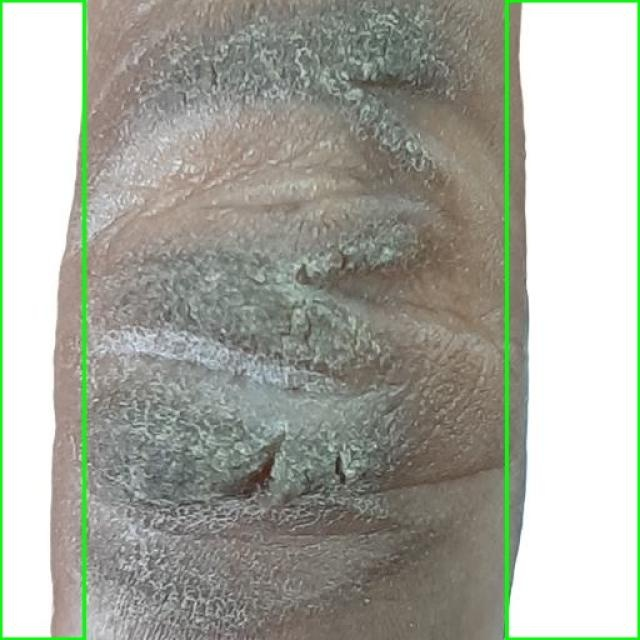Contact Dermatitis: (506, 0, 639, 639), (0, 0, 84, 639)
